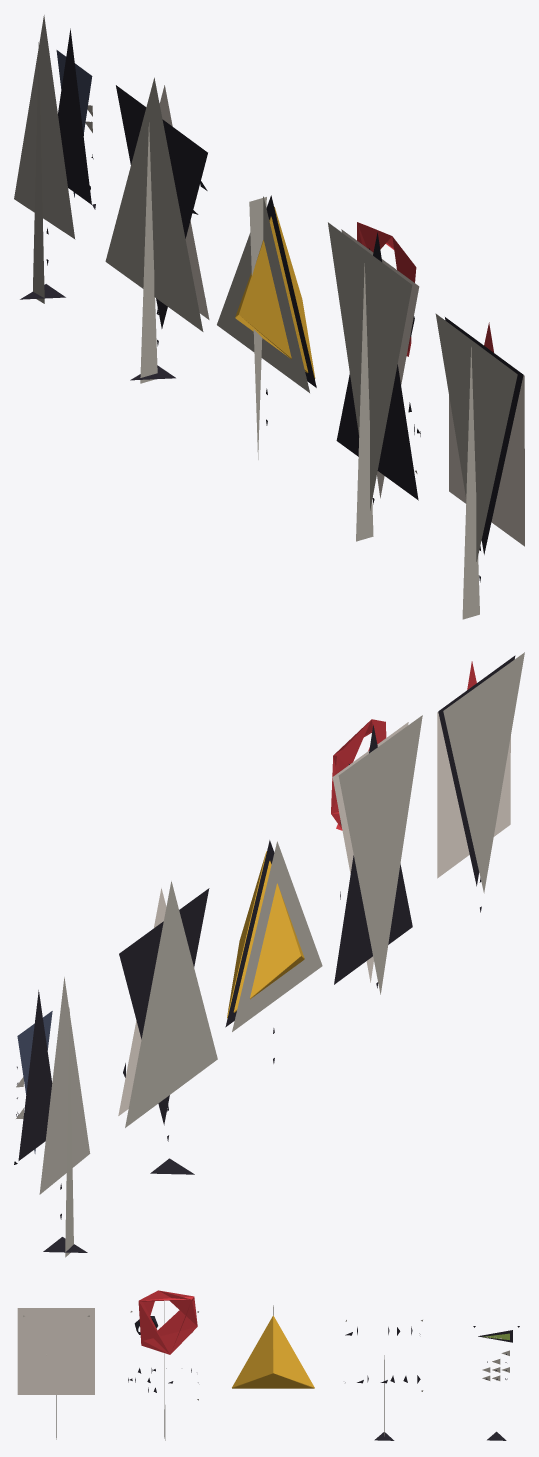
The picture shows the model from 3 angles, top to bottom: view 1: azimuth 30°, elevation 25°; view 2: azimuth 150°, elevation 25°; view 3: azimuth 270°, elevation 25°; orthographic projection. The views are drawn at different scales.
Visible parts, largest first — view 1: sign_nobike, sign_deliveries, sign_authorized, keypad, sign_hazard; view 2: sign_nobike, sign_deliveries, sign_authorized, keypad, sign_hazard; view 3: sign_authorized, sign_hazard, sign_nobike, keypad, sign_deliveries.
Part boxes in pixels (x1=…): sign_nobike: x1=328, y1=222, x2=420, y2=541; sign_deliveries: x1=105, y1=77, x2=209, y2=383; sign_authorized: x1=435, y1=313, x2=524, y2=619; keypad: x1=14, y1=15, x2=95, y2=303; sign_hazard: x1=217, y1=195, x2=316, y2=459; sign_nobike: x1=331, y1=715, x2=422, y2=994; sign_deliveries: x1=118, y1=881, x2=217, y2=1174; sign_authorized: x1=437, y1=652, x2=524, y2=912; keypad: x1=14, y1=977, x2=90, y2=1257; sign_hazard: x1=225, y1=840, x2=322, y2=1063; sign_authorized: x1=17, y1=1308, x2=94, y2=1439; sign_hazard: x1=232, y1=1305, x2=314, y2=1388; sign_nobike: x1=128, y1=1290, x2=198, y2=1440; keypad: x1=473, y1=1326, x2=519, y2=1440; sign_deliveries: x1=345, y1=1320, x2=423, y2=1440.
Bounding box in the file's own units: 0.2961 × 1.36 × 4.05.
